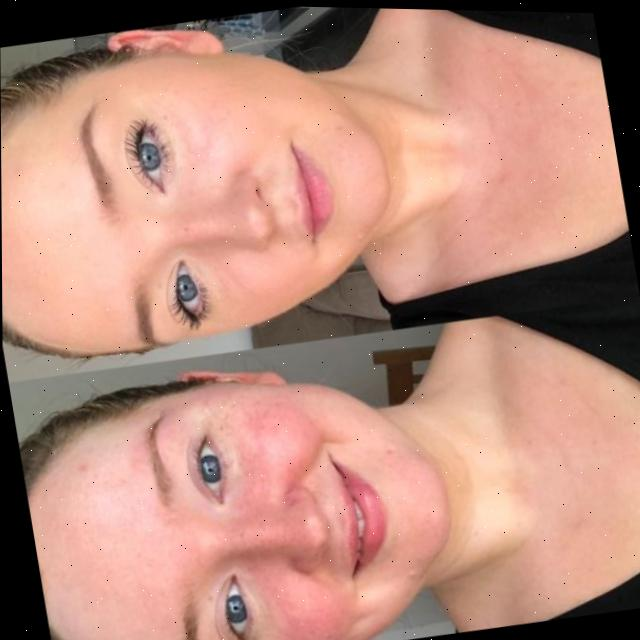Rosacea: (228, 378, 322, 506), (258, 540, 372, 640)
